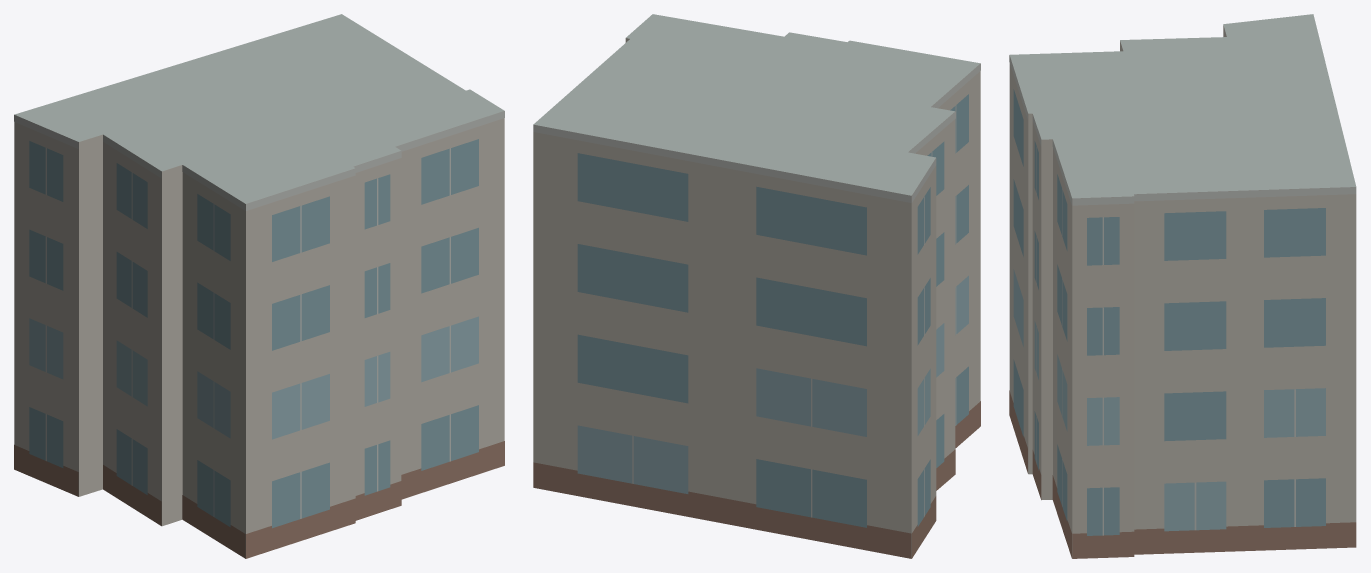
Rendered from survey-upis-32918212.glb.
The picture shows the model from 3 angles, left to right: view 1: azimuth 30°, elevation 25°; view 2: azimuth 150°, elevation 25°; view 3: azimuth 270°, elevation 25°; orthographic projection. The views are drawn at different scales.
Parts seen in each view (by area): view 1: survey-upis-32918212.tmp; view 2: survey-upis-32918212.tmp; view 3: survey-upis-32918212.tmp.
Boxes of the visible parts, x1=… form: survey-upis-32918212.tmp: x1=14, y1=14, x2=504, y2=558; survey-upis-32918212.tmp: x1=533, y1=14, x2=980, y2=558; survey-upis-32918212.tmp: x1=1009, y1=14, x2=1356, y2=558.
Bounding box in the file's own units: 13.26 × 12.08 × 10.55.
